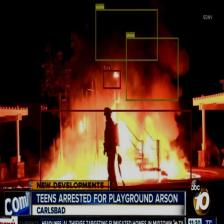fire: (40, 110, 191, 187), (103, 70, 121, 89)
smoke: (126, 37, 178, 101), (95, 8, 158, 60)
